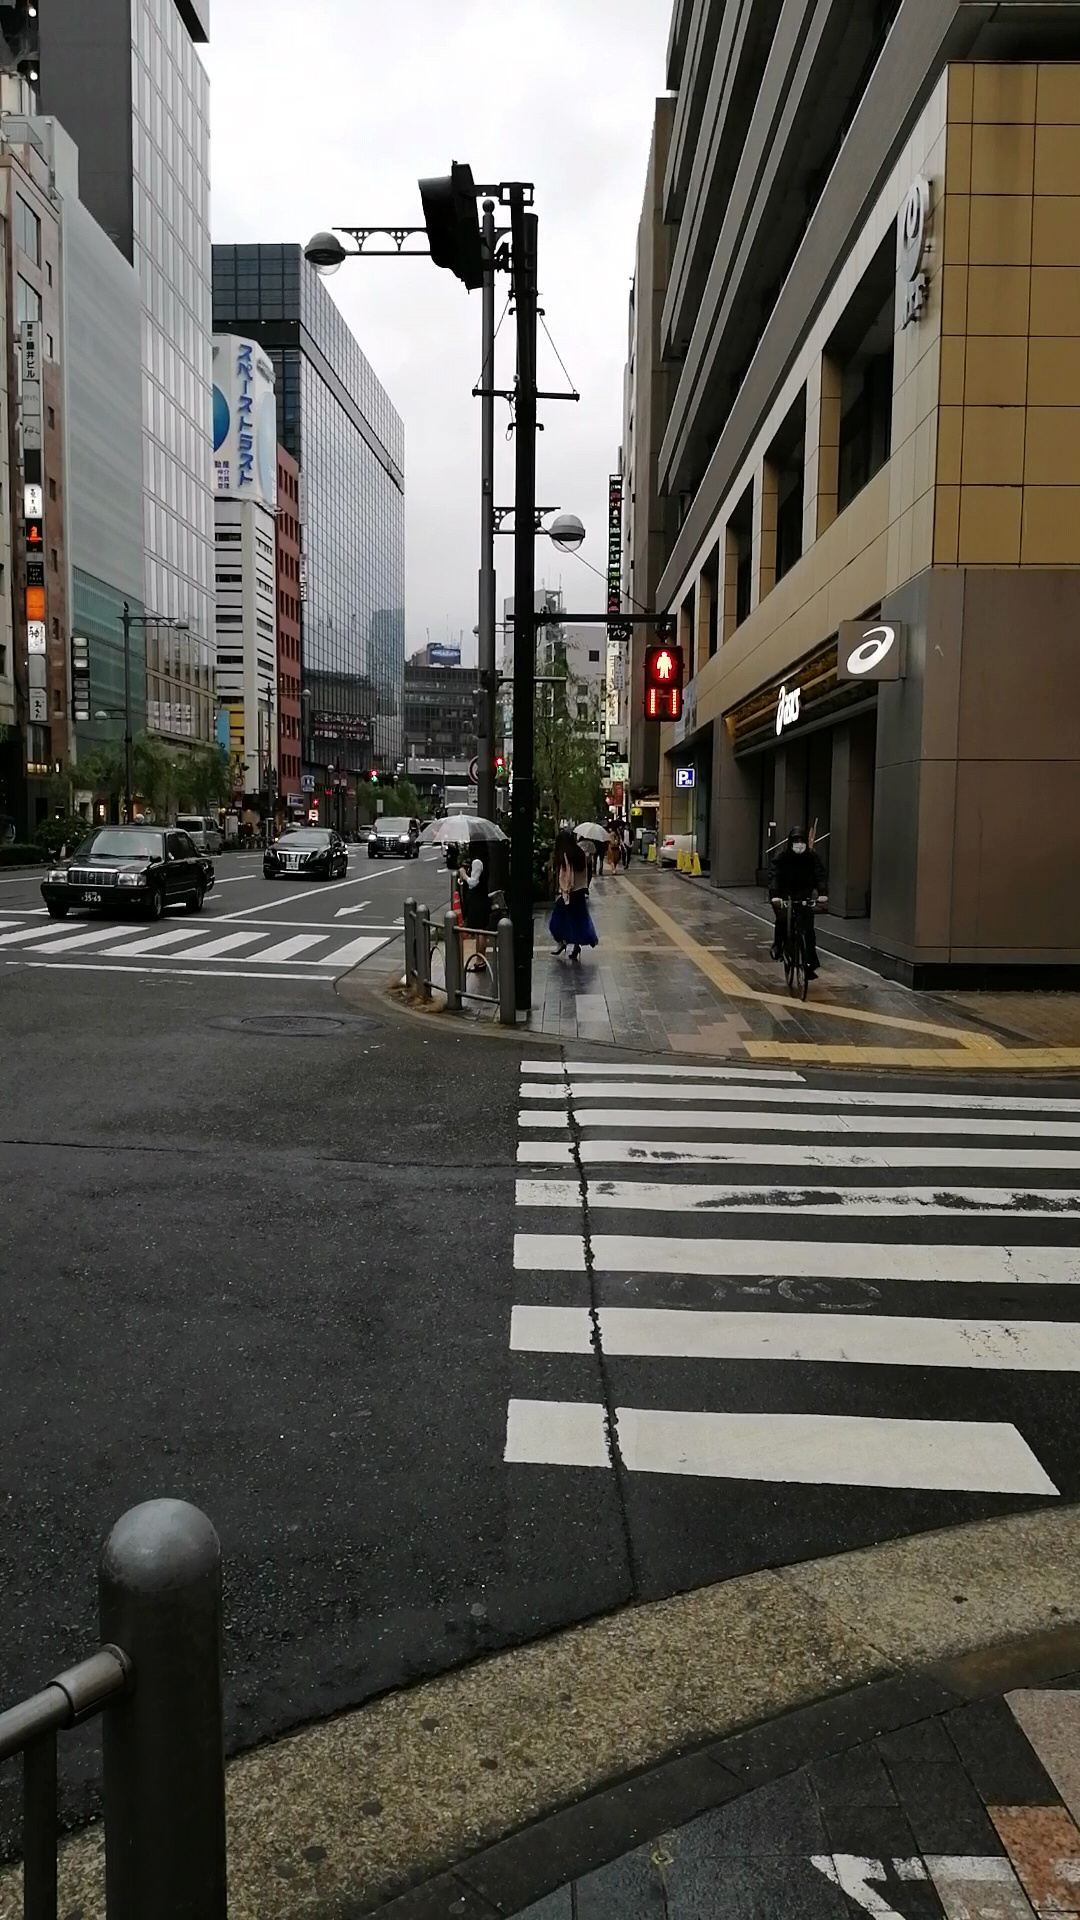red: (645, 644, 684, 721)
